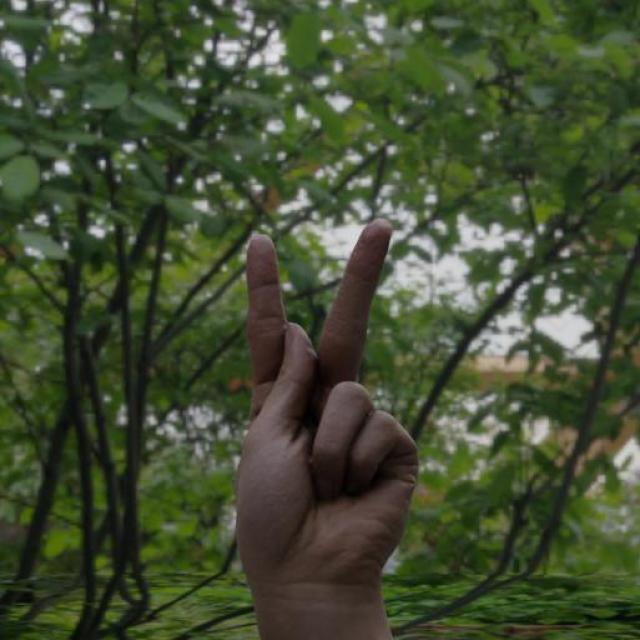K: (231, 217, 420, 578)
